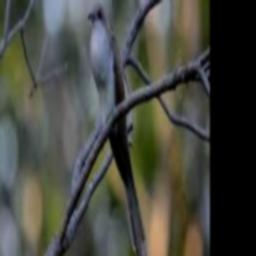Cuckoo: (87, 0, 149, 256)
